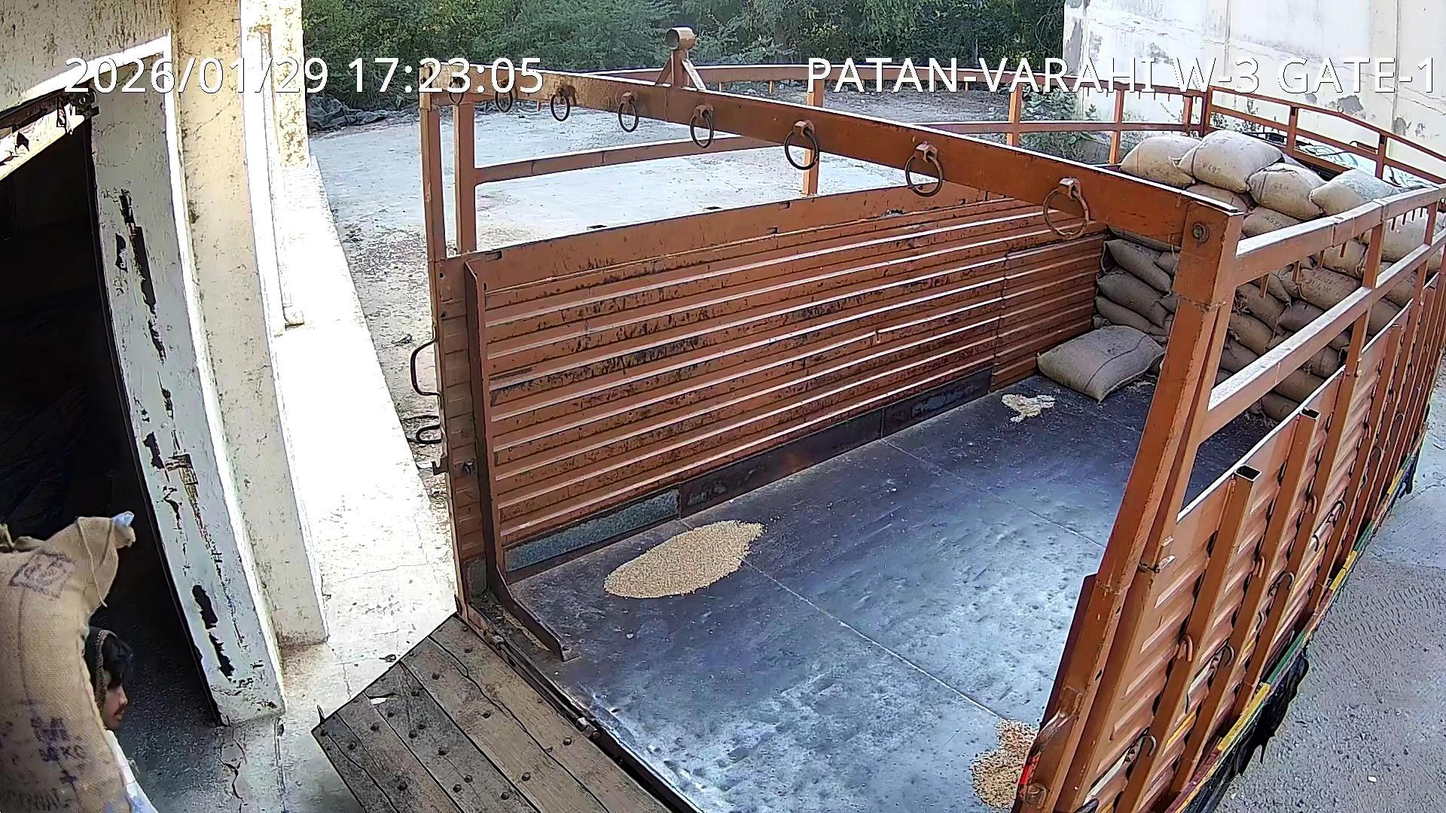Sack: (0, 516, 134, 812)
